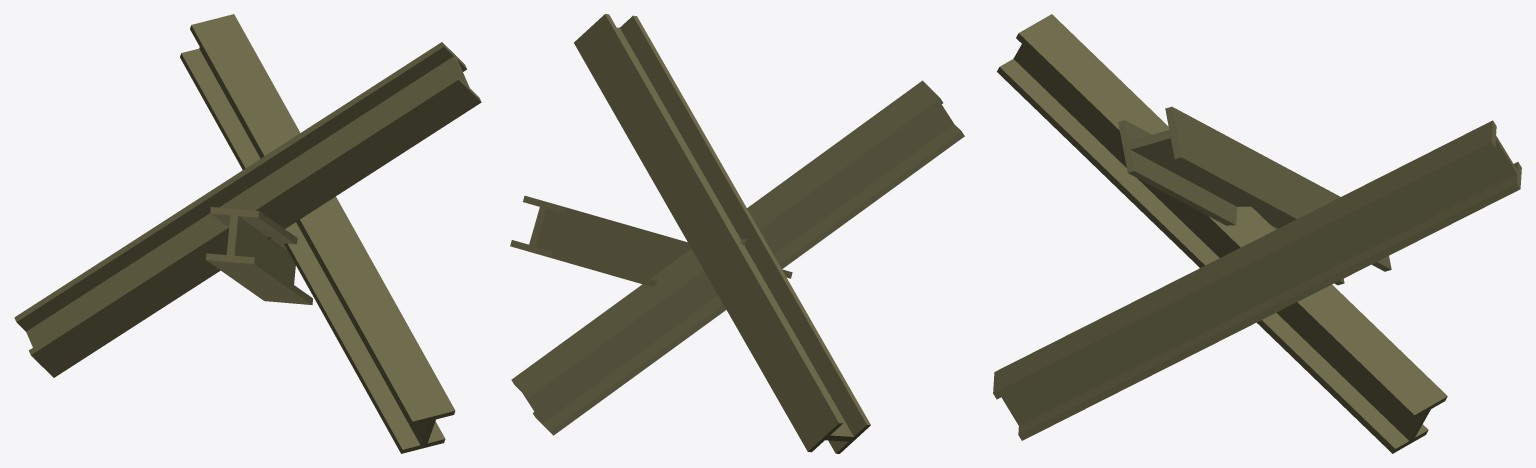
Rendered from SM_Prop_Stopper.fbx.
The picture shows the model from 3 angles, left to right: view 1: azimuth 30°, elevation 25°; view 2: azimuth 150°, elevation 25°; view 3: azimuth 270°, elevation 25°; orthographic projection. The views are drawn at different scales.
Visible parts, largest first — view 1: Plane.001; view 2: Plane.001; view 3: Plane.001.
Boxes of the visible parts, x1,y1,x2,y2 form: Plane.001: (14,14,481,453); Plane.001: (510,14,964,453); Plane.001: (993,14,1521,453).
Size of the model in its own units: 295 by 229 by 262.
